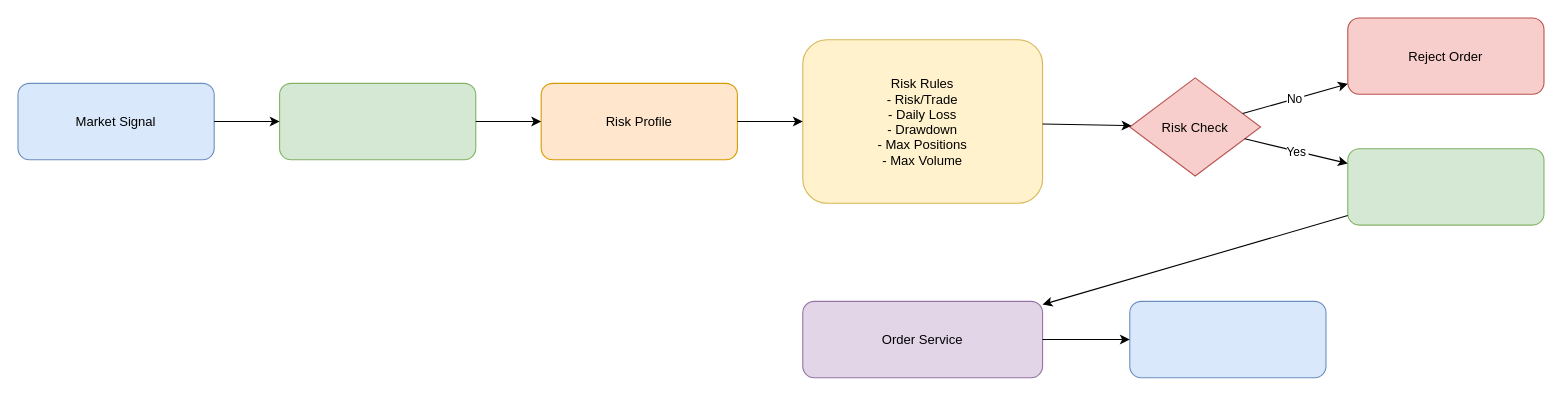
This 1562x396 diagram has some shape labels left out. Each missing label, with the box of its shape:
Approve Order: (1347, 148, 1544, 225)
Broker Adapter: (1129, 300, 1326, 378)
Strategy: (278, 82, 476, 160)
